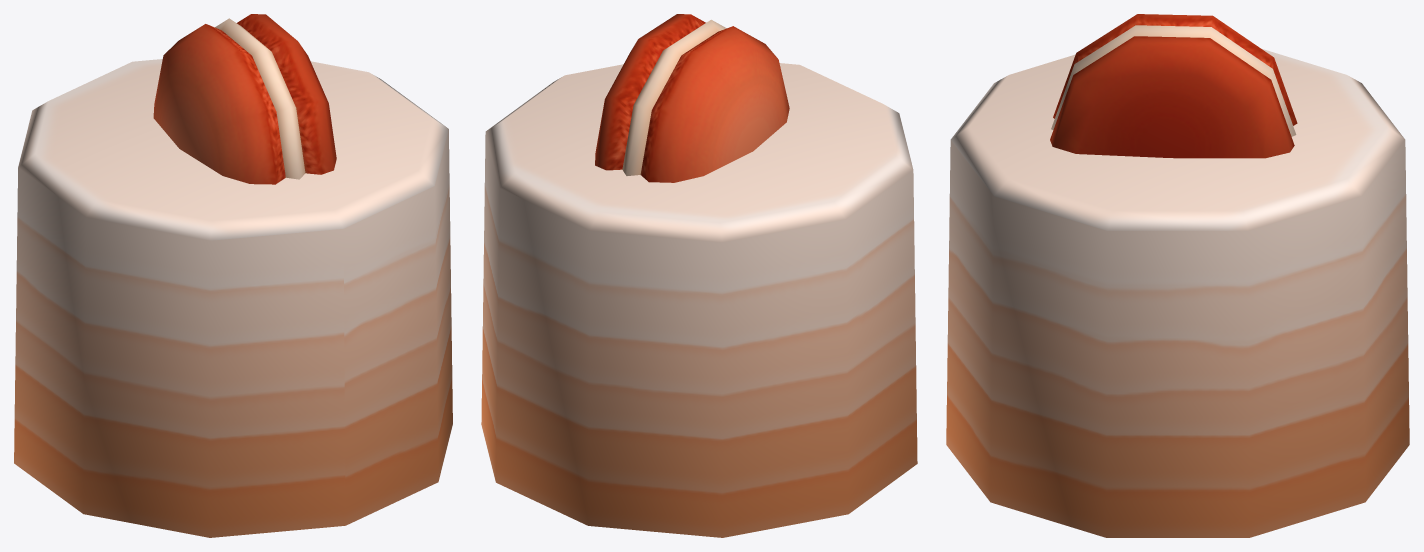
Rendered from SunsetCake_Small.fbx.
The picture shows the model from 3 angles, left to right: view 1: azimuth 30°, elevation 25°; view 2: azimuth 150°, elevation 25°; view 3: azimuth 270°, elevation 25°; orthographic projection. The views are drawn at different scales.
Parts seen in each view (by area): view 1: SunsetCake_Small; view 2: SunsetCake_Small; view 3: SunsetCake_Small.
Part boxes in pixels (left/top/right/bottom): SunsetCake_Small: left=14, top=14, right=452, bottom=537; SunsetCake_Small: left=481, top=14, right=917, bottom=537; SunsetCake_Small: left=946, top=14, right=1409, bottom=537.
Size of the model in its own units: 36.87 by 39.17 by 38.77.
